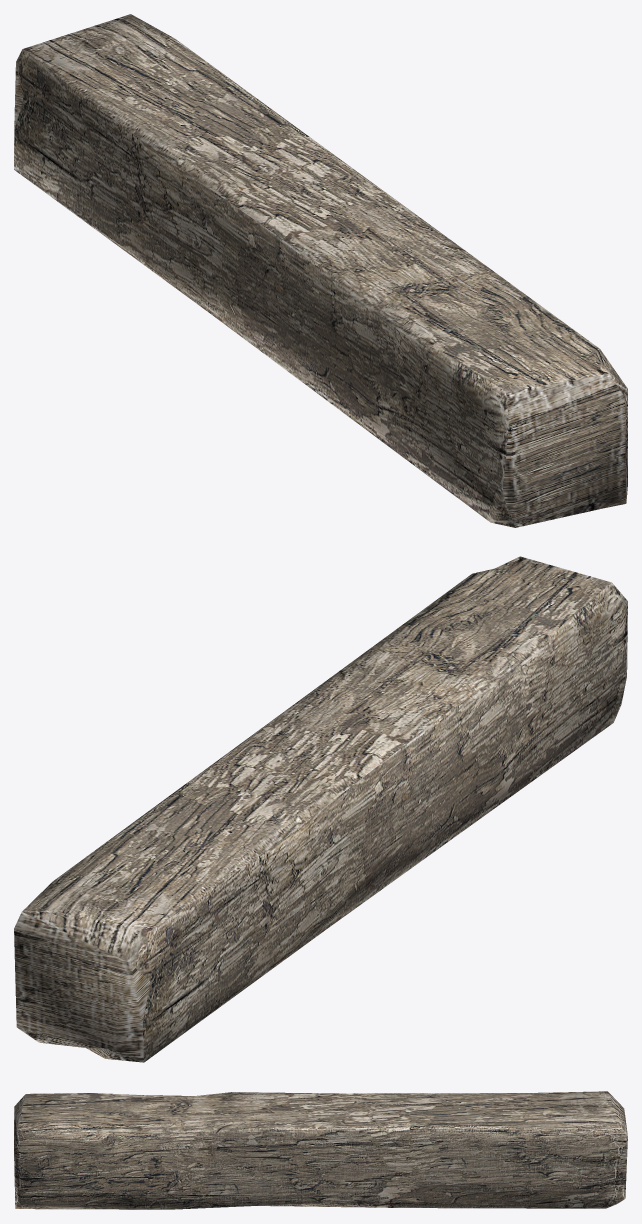
Rendered from SM_Cave_Wood_Beam.FBX.
3 renders of one model, top to bottom at view 1: azimuth 30°, elevation 25°; view 2: azimuth 150°, elevation 25°; view 3: azimuth 270°, elevation 25°, orthographic. The views are drawn at different scales.
Visible parts, largest first — view 1: SM_Cave_Wood_Beam; view 2: SM_Cave_Wood_Beam; view 3: SM_Cave_Wood_Beam.
Part boxes in pixels (x1,y1,x2,y2): SM_Cave_Wood_Beam: [14, 14, 627, 527]; SM_Cave_Wood_Beam: [14, 556, 627, 1062]; SM_Cave_Wood_Beam: [14, 1091, 627, 1209].
Size of what is drawn, in the model's own units: 40.56 by 272 by 40.9.
